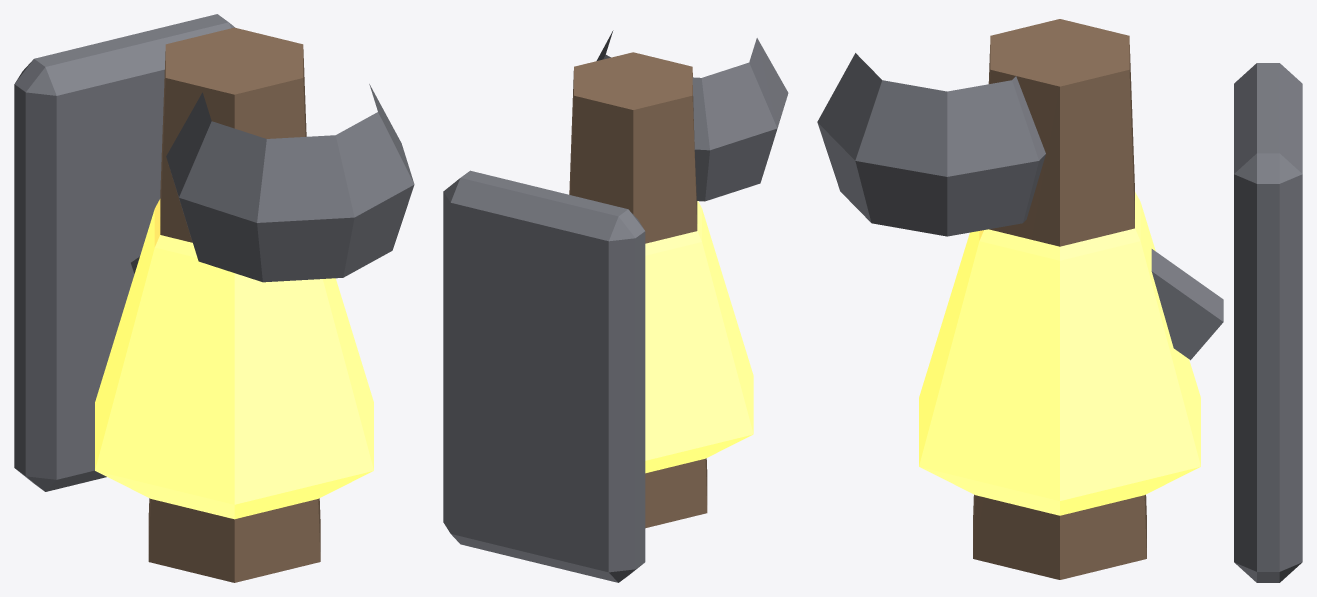
Rendered from torch_sconce.glb.
3 views of the same model, side by side, from view 1: azimuth 30°, elevation 25°; view 2: azimuth 150°, elevation 25°; view 3: azimuth 270°, elevation 25° (orthographic). The views are drawn at different scales.
Visible parts, largest first — view 1: torch_sconce_0, torch_sconce_2, torch_sconce_1; view 2: torch_sconce_0, torch_sconce_1, torch_sconce_2; view 3: torch_sconce_0, torch_sconce_2, torch_sconce_1.
Boxes of the visible parts, bbox=[...] form: torch_sconce_0: bbox=[14, 14, 414, 491]; torch_sconce_2: bbox=[95, 199, 373, 519]; torch_sconce_1: bbox=[148, 27, 320, 582]; torch_sconce_0: bbox=[443, 30, 788, 582]; torch_sconce_1: bbox=[569, 52, 707, 528]; torch_sconce_2: bbox=[645, 201, 753, 473]; torch_sconce_0: bbox=[817, 53, 1302, 582]; torch_sconce_2: bbox=[919, 192, 1200, 515]; torch_sconce_1: bbox=[973, 19, 1146, 579].
Bounding box in the file's own units: 1.22 × 2 × 1.81.
